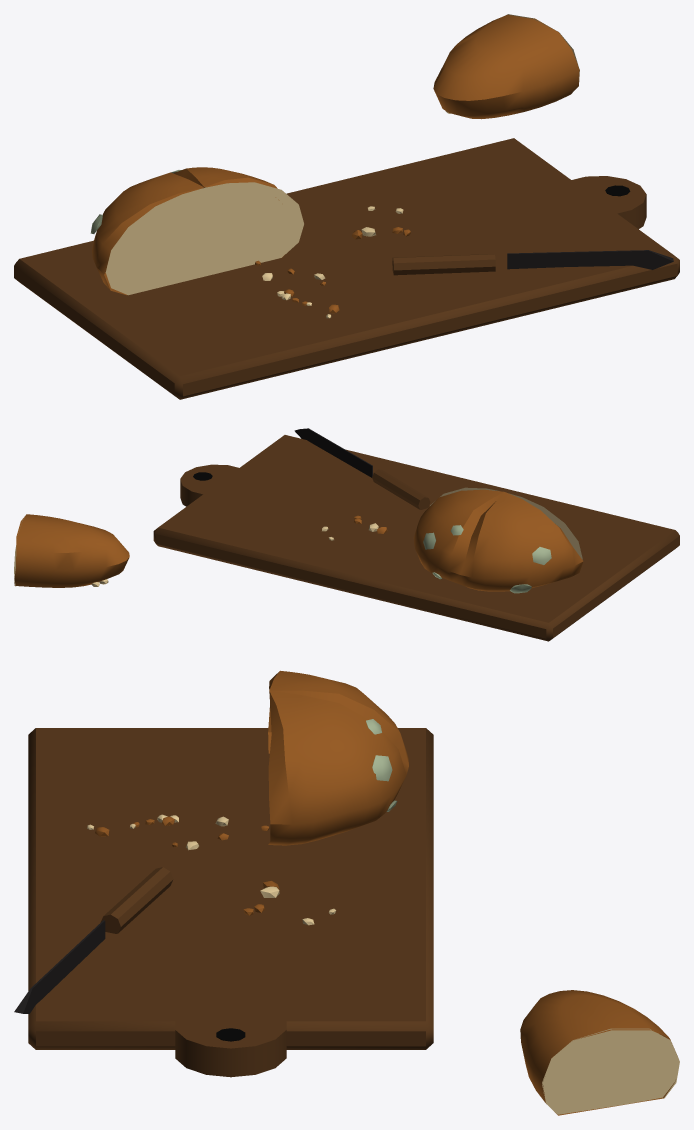
The model's file is brotlaib_kaputt.glb.
3 renders of one model, top to bottom at view 1: azimuth 30°, elevation 25°; view 2: azimuth 150°, elevation 25°; view 3: azimuth 270°, elevation 25°, orthographic. The views are drawn at different scales.
Visible parts, largest first — view 1: brotlaib_kaputt; view 2: brotlaib_kaputt; view 3: brotlaib_kaputt.
Boxes of the visible parts, x1,y1,x2,y2 form: brotlaib_kaputt: (14,14,679,399); brotlaib_kaputt: (14,428,679,641); brotlaib_kaputt: (14,670,679,1115).
Bounding box in the file's own units: 0.6805 × 0.1207 × 0.5257.
